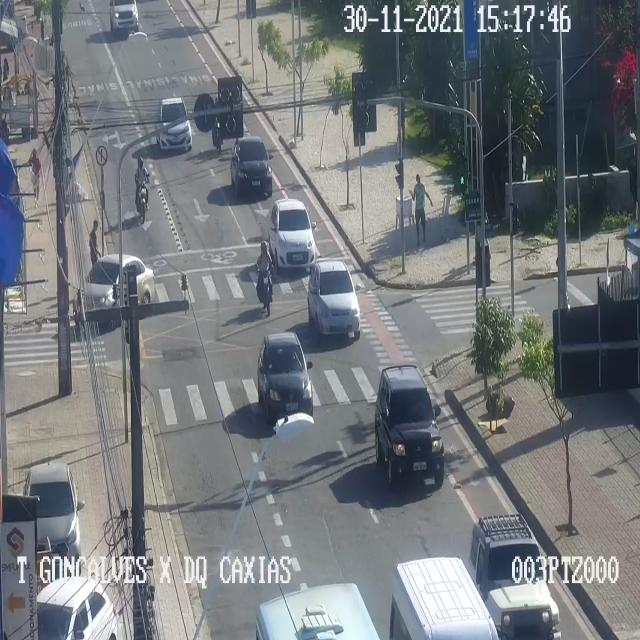Bus: (256, 582, 380, 639)
Car: (468, 516, 560, 639), (388, 557, 498, 639), (374, 364, 444, 486), (73, 253, 154, 329), (24, 464, 80, 572), (36, 576, 116, 639), (258, 332, 312, 418), (307, 260, 359, 338), (269, 198, 315, 270), (230, 135, 272, 195), (155, 97, 191, 148), (110, 1, 137, 33)
Motorcycle: (256, 240, 274, 314), (134, 155, 150, 222), (212, 96, 224, 152)
